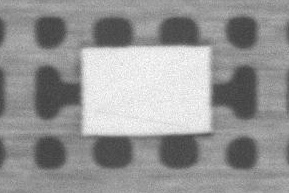DIE_CRACK: (139, 73, 282, 85)
